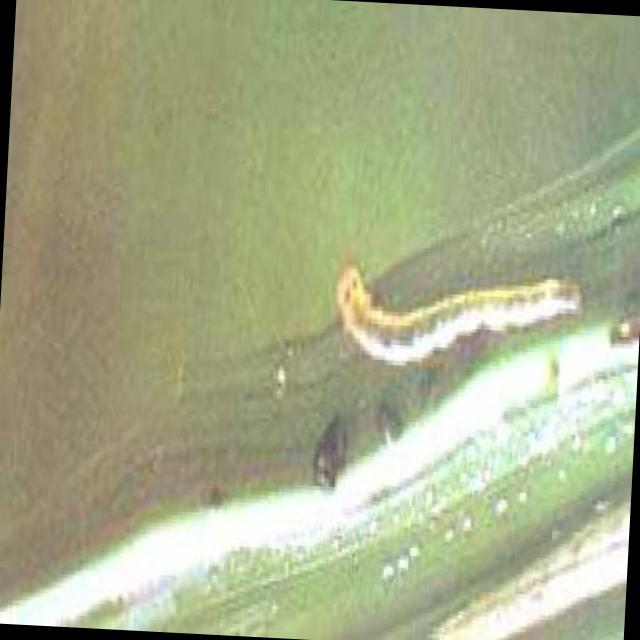leaf-folder: (328, 232, 597, 386)
